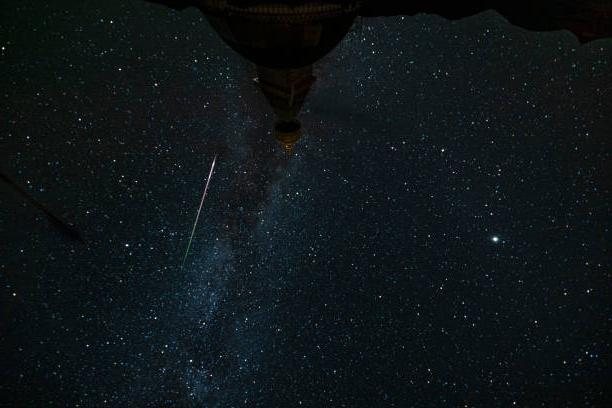meteorite: (186, 153, 221, 245)
